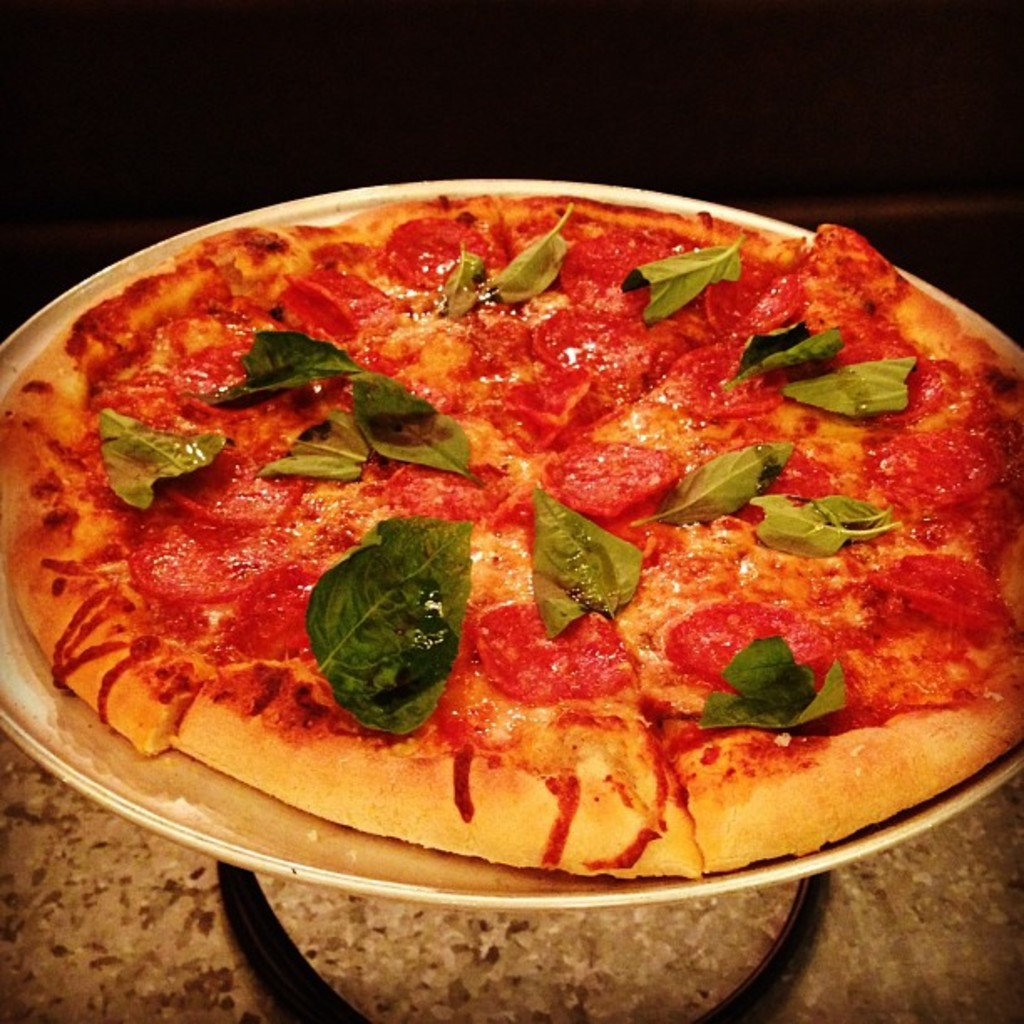Pizza: (0, 189, 1012, 930)
